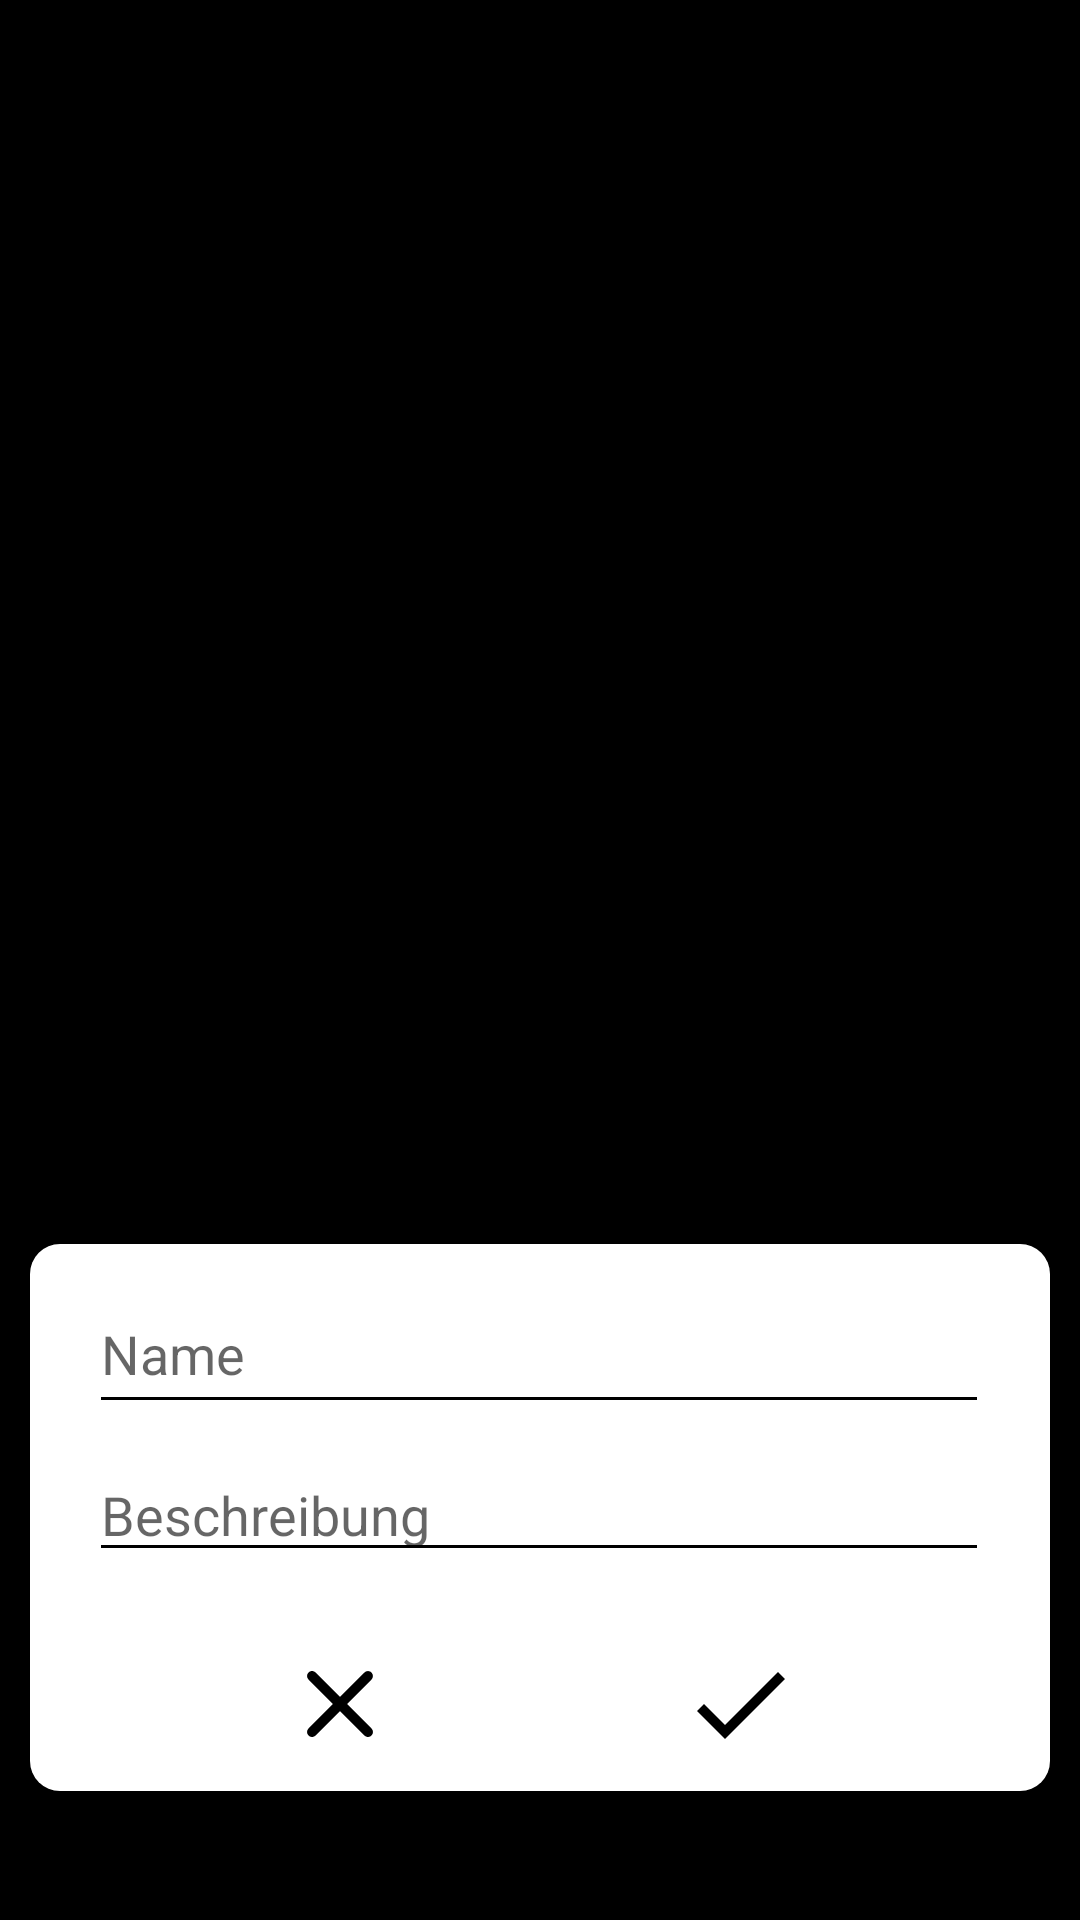

Screen size 1080w x 1920h. Icon name, then its center in pixels as (x=x, y=y):
clear: (x=340, y=1704)
done: (x=741, y=1705)
